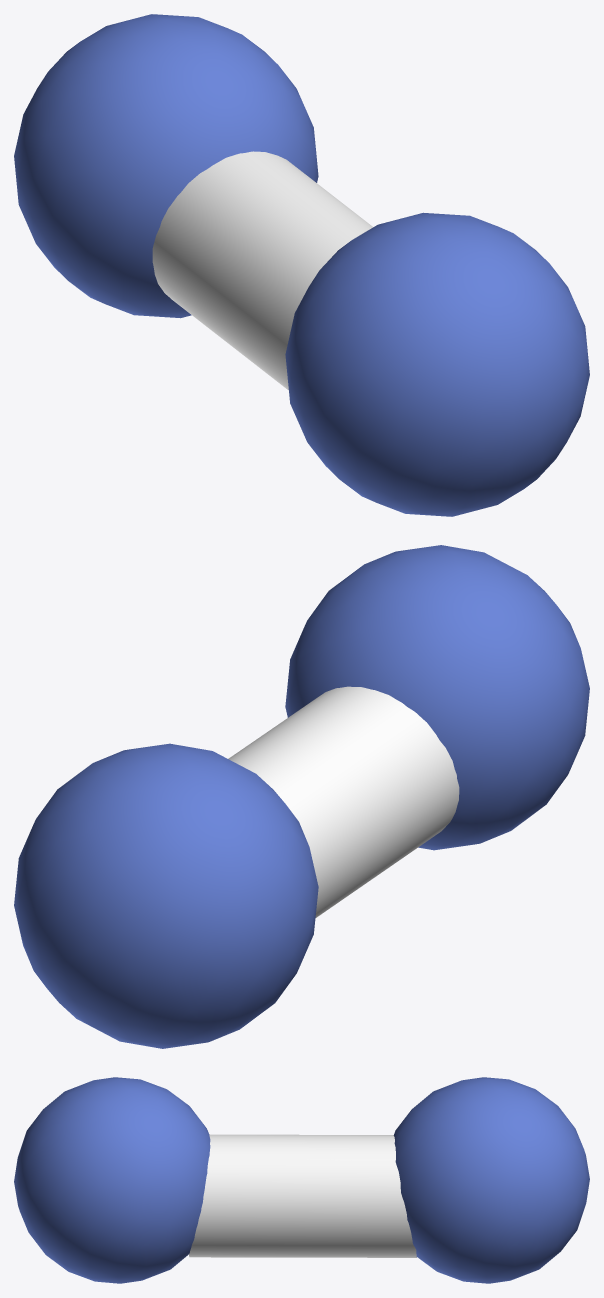
3 views of the same model, one above another, from view 1: azimuth 30°, elevation 25°; view 2: azimuth 150°, elevation 25°; view 3: azimuth 270°, elevation 25° (orthographic). The views are drawn at different scales.
Parts seen in each view (by area): view 1: Chlorine.001; view 2: Chlorine.001; view 3: Chlorine.001.
Part boxes in pixels (x1=…): Chlorine.001: x1=14, y1=14, x2=589, y2=516; Chlorine.001: x1=14, y1=545, x2=589, y2=1048; Chlorine.001: x1=14, y1=1077, x2=589, y2=1283.
Size of the model in its own units: 0.6254 by 0.626 by 1.76.
